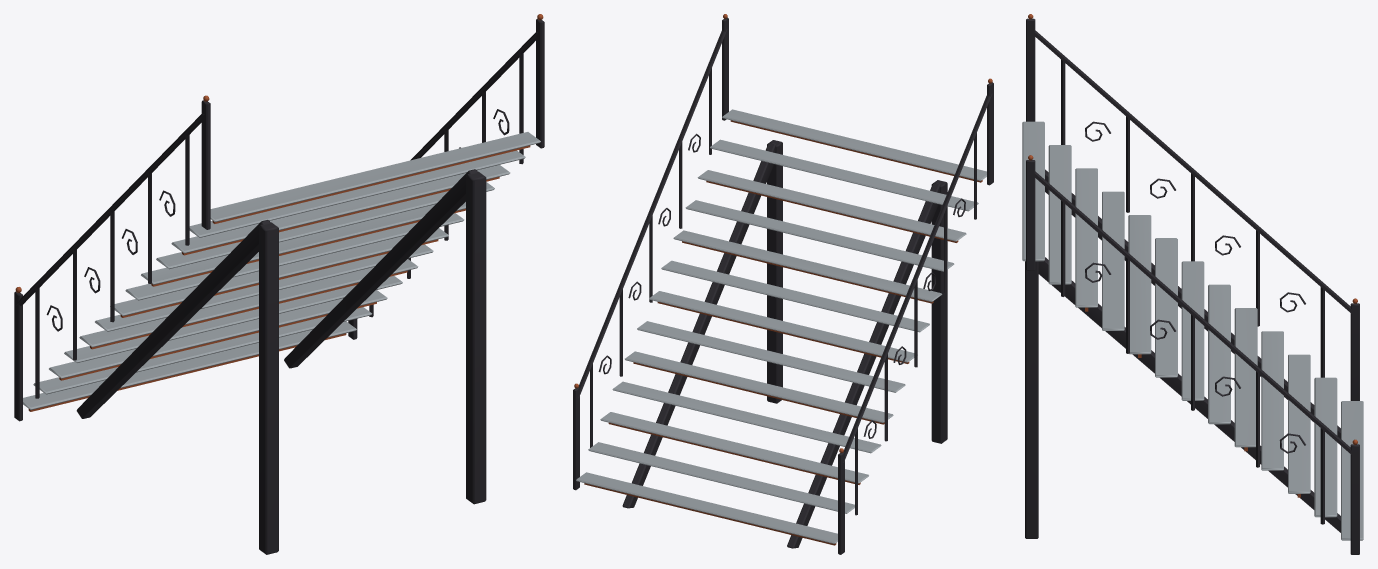
File: qb_grandstairs_metal.glb
3 renders of one model, left to right at view 1: azimuth 30°, elevation 25°; view 2: azimuth 150°, elevation 25°; view 3: azimuth 270°, elevation 25°, orthographic. The views are drawn at different scales.
Visible parts, largest first — view 1: qb_grandstairs_metal; view 2: qb_grandstairs_metal; view 3: qb_grandstairs_metal.
Part boxes in pixels (bbox=[...]): qb_grandstairs_metal: bbox=[14, 14, 544, 554]; qb_grandstairs_metal: bbox=[573, 14, 993, 554]; qb_grandstairs_metal: bbox=[1022, 14, 1363, 554].
Bounding box in the file's own units: 2.95 × 3.91 × 2.97.
